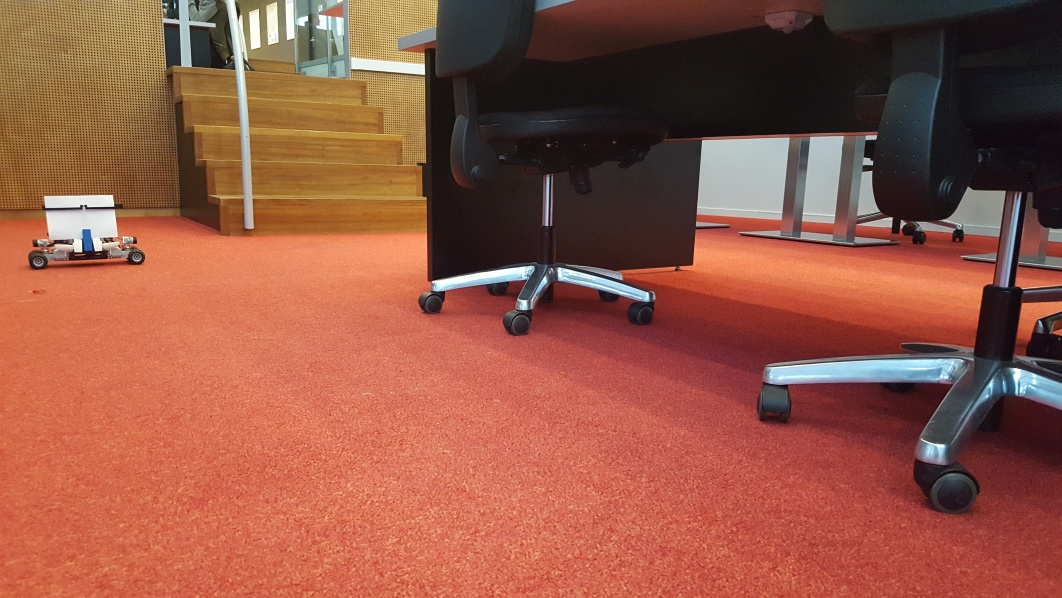car: (28, 192, 146, 266)
